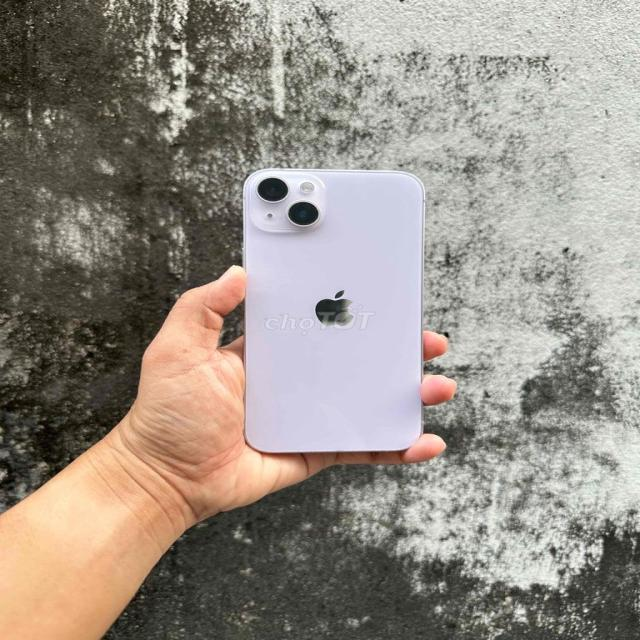gen_14: (226, 160, 439, 460)
